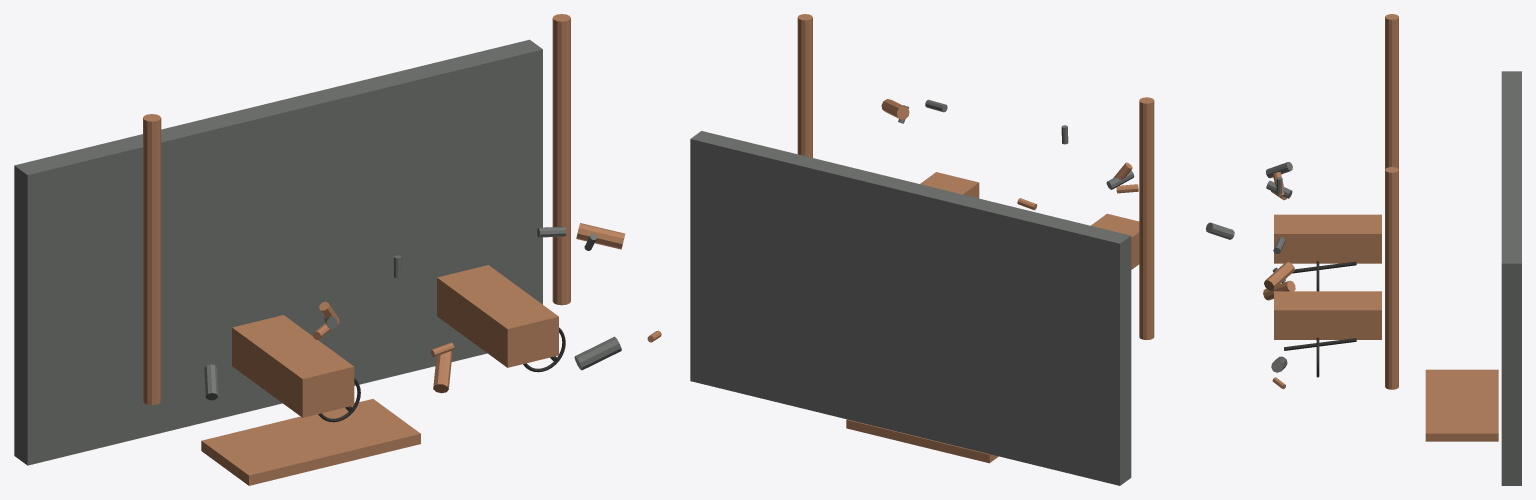
The model's file is dz_real_gas_station_forecourt.glb.
3 views of the same model, side by side, from view 1: azimuth 30°, elevation 25°; view 2: azimuth 150°, elevation 25°; view 3: azimuth 270°, elevation 25° (orthographic). The views are drawn at different scales.
Visible parts, largest first — view 1: broken station canopy, price board rusted, gas pump body, gas pump body.001, canopy rust post, canopy rust post.001, oil can debris.003, oil can debris.009; view 2: broken station canopy, canopy rust post, canopy rust post.001, price board rusted, gas pump body, gas pump body.001; view 3: broken station canopy, price board rusted, gas pump body.001, gas pump body, canopy rust post.001, canopy rust post, oil can debris.009, pump hose.001, oil can debris.002.
Boxes of the visible parts, x1,y1,x2,y2 form: broken station canopy: (14,39,542,465); price board rusted: (201,399,420,485); gas pump body: (232,315,354,417); gas pump body.001: (437,265,558,367); canopy rust post: (143,114,161,405); canopy rust post.001: (552,14,570,305); oil can debris.003: (574,336,621,370); oil can debris.009: (576,223,624,249); broken station canopy: (690,131,1131,485); canopy rust post: (1139,97,1154,339); canopy rust post.001: (797,14,812,157); price board rusted: (846,419,998,463); gas pump body: (1091,213,1139,269); gas pump body.001: (920,172,979,198); broken station canopy: (1501,71,1521,485); price board rusted: (1425,369,1498,441); gas pump body.001: (1274,291,1381,339); gas pump body: (1274,214,1381,263); canopy rust post.001: (1385,167,1398,389); canopy rust post: (1385,14,1398,169); oil can debris.009: (1264,262,1294,290); pump hose.001: (1284,338,1356,350); oil can debris.002: (1263,280,1295,300).
Bounding box in the file's own units: 7.8 × 6.13 × 4.44.
